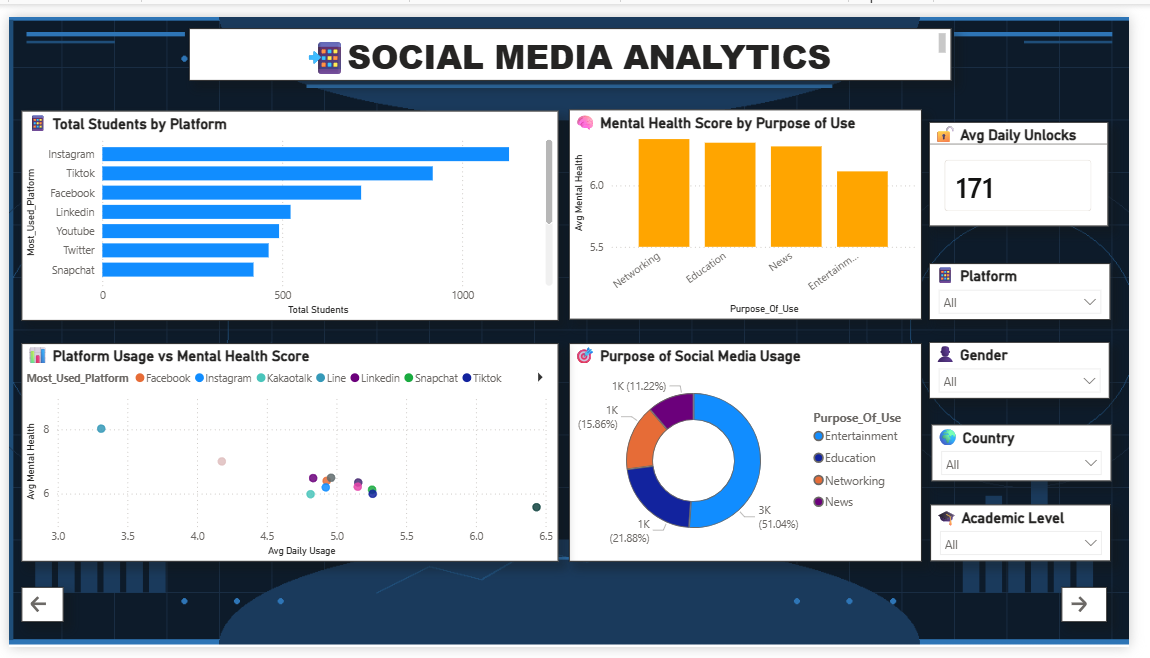

The page's visual inventory and layout, read from the dashboard file:
{"tool":"powerbi","page":{"name":"social media analytics","canvas":[1280,720],"ordinal":1},"visuals":[{"type":"clusteredBarChart","title":"📱 Total Students by Platform","fields":{"Category":["Student Social Media And Mental Health Impact.Most_Used_Platform"],"Y":["Student Social Media And Mental Health Impact.Total Students"]},"box":[13.7,107,613.4,240.1],"z":0},{"type":"donutChart","title":"🎯 Purpose of Social Media Usage","fields":{"Category":["Student Social Media And Mental Health Impact.Purpose_Of_Use"],"Y":["Student Social Media And Mental Health Impact.Total Students"]},"box":[639.5,373.2,403.4,249.7],"z":1000},{"type":"clusteredColumnChart","title":"🧠 Mental Health Score by Purpose of Use","fields":{"Y":["Student Social Media And Mental Health Impact.Avg Mental Health"],"Category":["Student Social Media And Mental Health Impact.Purpose_Of_Use"]},"box":[639.5,105.7,403.4,240.1],"z":2000},{"type":"textbox","box":[205.8,12.3,871.4,60.4],"z":3000},{"type":"slicer","title":"👤 Gender","fields":{"Values":["Student Social Media And Mental Health Impact.Gender"]},"box":[1051.6,371.7,206.7,64.8],"z":4000},{"type":"slicer","title":"🎓 Academic Level","fields":{"Values":["Student Social Media And Mental Health Impact.Academic_Level"]},"box":[1052.9,557.6,206.7,64.8],"z":5000},{"type":"slicer","title":"🌍 Country","fields":{"Values":["Student Social Media And Mental Health Impact.Country"]},"box":[1054.1,465.9,205.4,64.8],"z":6000},{"type":"slicer","title":"📱 Platform","fields":{"Values":["Student Social Media And Mental Health Impact.Most_Used_Platform"]},"box":[1051.1,281.3,207.2,64.5],"z":7000},{"type":"cardVisual","title":"🔓 Avg Daily Unlocks","fields":{"Data":["Student Social Media And Mental Health Impact.Avg Daily Unlocks"]},"box":[1051.1,119.4,204.5,119.4],"z":8000},{"type":"scatterChart","title":"📊 Platform Usage vs Mental Health Score","fields":{"X":["Student Social Media And Mental Health Impact.Avg Daily Usage"],"Series":["Student Social Media And Mental Health Impact.Most_Used_Platform"],"Category":["Student Social Media And Mental Health Impact.Most_Used_Platform"],"Y":["Student Social Media And Mental Health Impact.Avg Mental Health"]},"box":[13.7,373.2,613.4,249.7],"z":9000},{"type":"actionButton","box":[13.7,651.8,48,39.8],"z":10000},{"type":"actionButton","box":[1203.4,651.8,52.1,39.8],"z":11000}]}

Visuals, with their boxes in screenshot pixels (x1, y1, x2, y2), scaled from the page's 1280x720 canvas onto the 1150x658 screenshot:
"📱 Total Students by Platform" clusteredBarChart: rect(12, 98, 563, 317)
"🎯 Purpose of Social Media Usage" donutChart: rect(575, 341, 937, 569)
"🧠 Mental Health Score by Purpose of Use" clusteredColumnChart: rect(575, 97, 937, 316)
textbox: rect(185, 11, 968, 66)
"👤 Gender" slicer: rect(945, 340, 1131, 399)
"🎓 Academic Level" slicer: rect(946, 510, 1132, 569)
"🌍 Country" slicer: rect(947, 426, 1132, 485)
"📱 Platform" slicer: rect(944, 257, 1131, 316)
"🔓 Avg Daily Unlocks" cardVisual: rect(944, 109, 1128, 218)
"📊 Platform Usage vs Mental Health Score" scatterChart: rect(12, 341, 563, 569)
actionButton: rect(12, 596, 55, 632)
actionButton: rect(1081, 596, 1128, 632)
